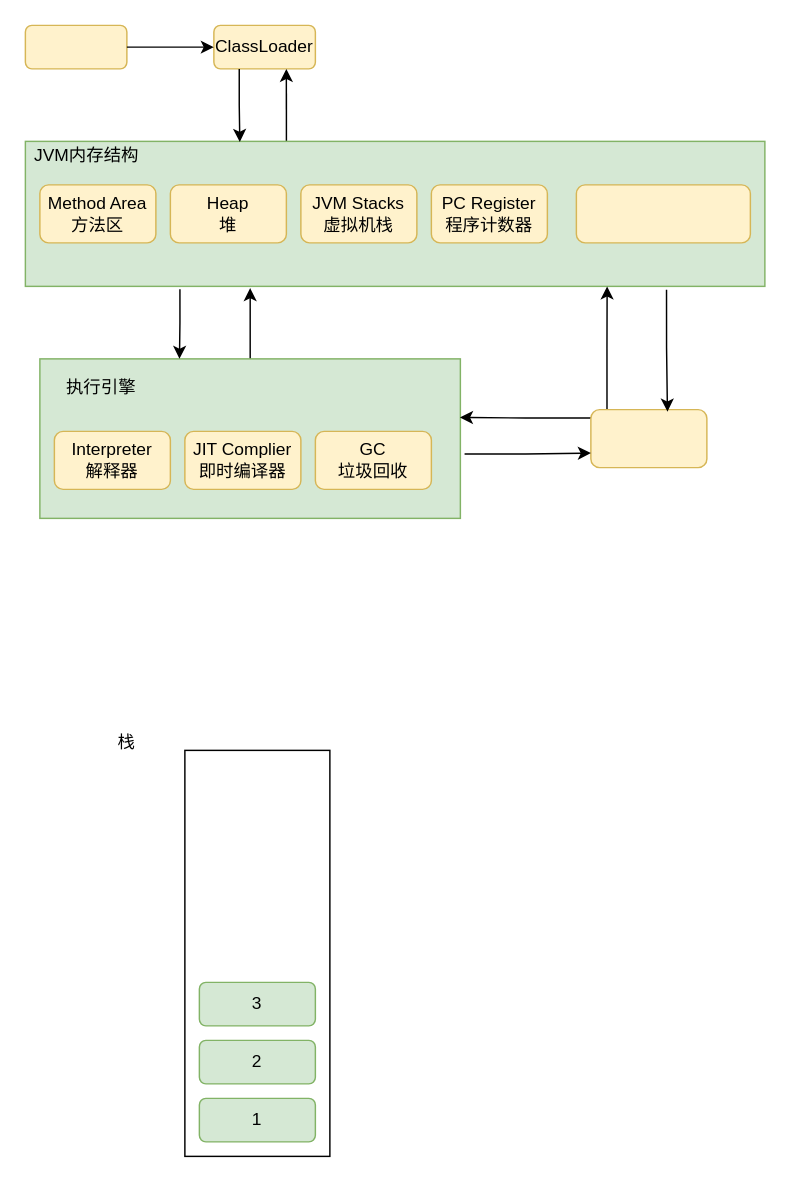
Image size: 790x1182. Some labels were removed from this diagram. Each missing label, with the centre of its shape:
"Java Class" belongs at [75,46].
"Native Method Stacks 本地方法栈" belongs at [662,213].
"本地方法接口" belongs at [648,438].
